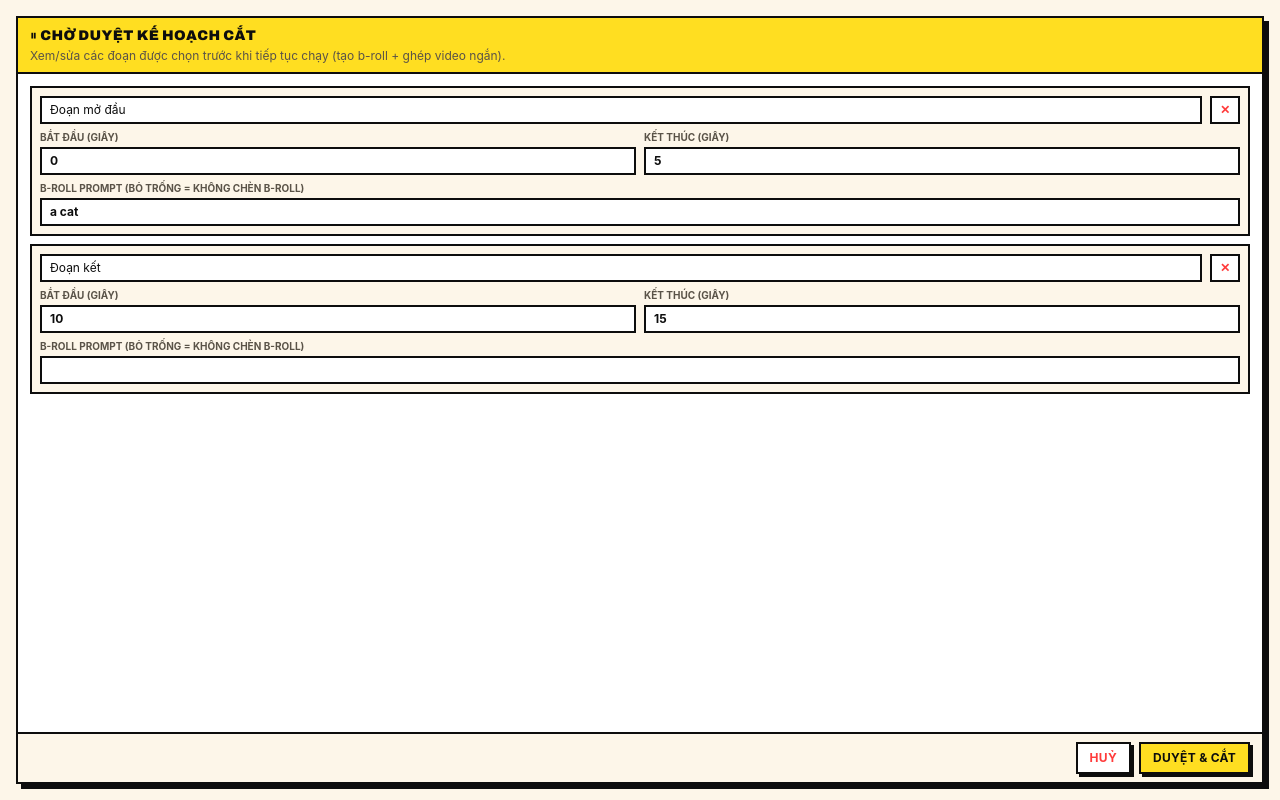
Test case: CutPlanReview › surfaces per-issue messages from a 400 ApiError instead of only the generic string
Click the button with test id "cutplan-approve": (1194, 758) [1139, 742, 1250, 774]
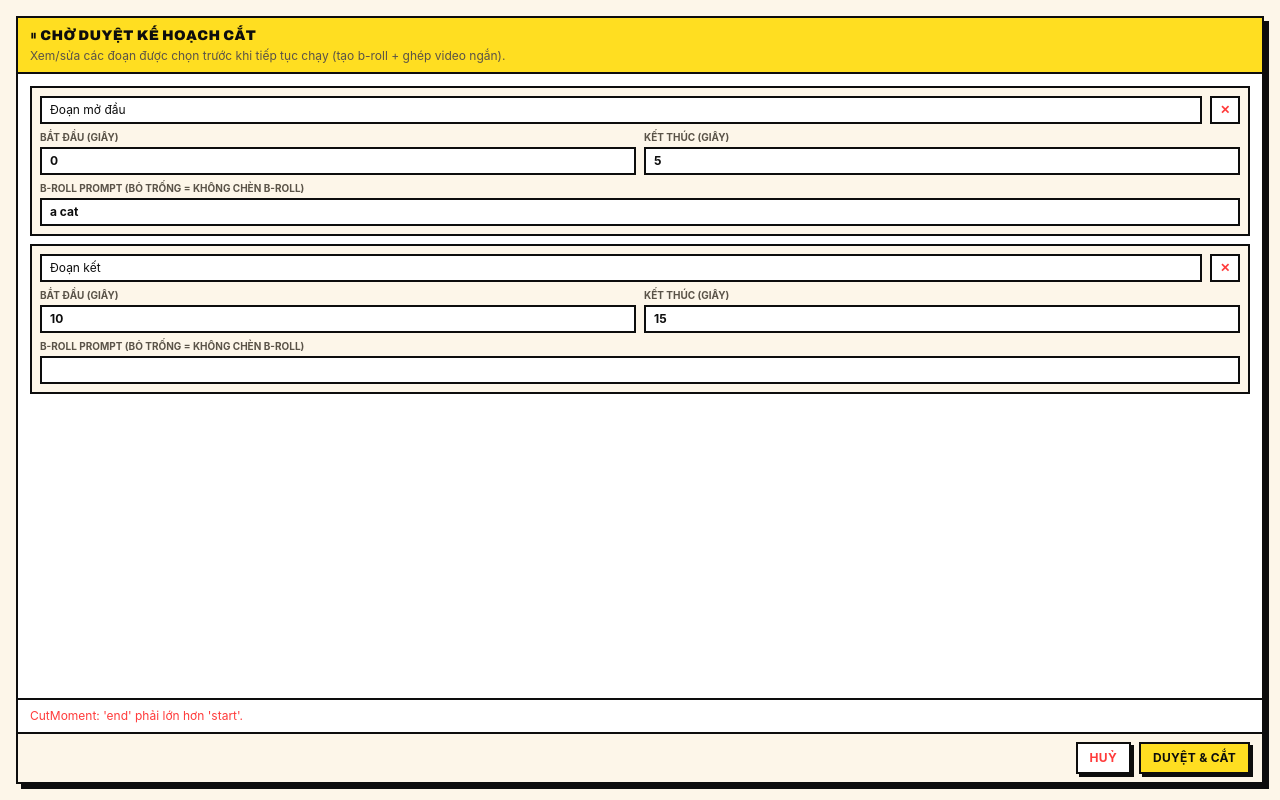
Expected: the text "CutMoment: 'end' phải lớn hơn 'start'." is shown, [18, 698, 1262, 732]
